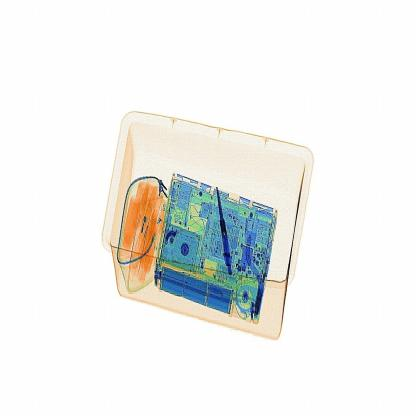gun: (212, 178, 242, 296)
